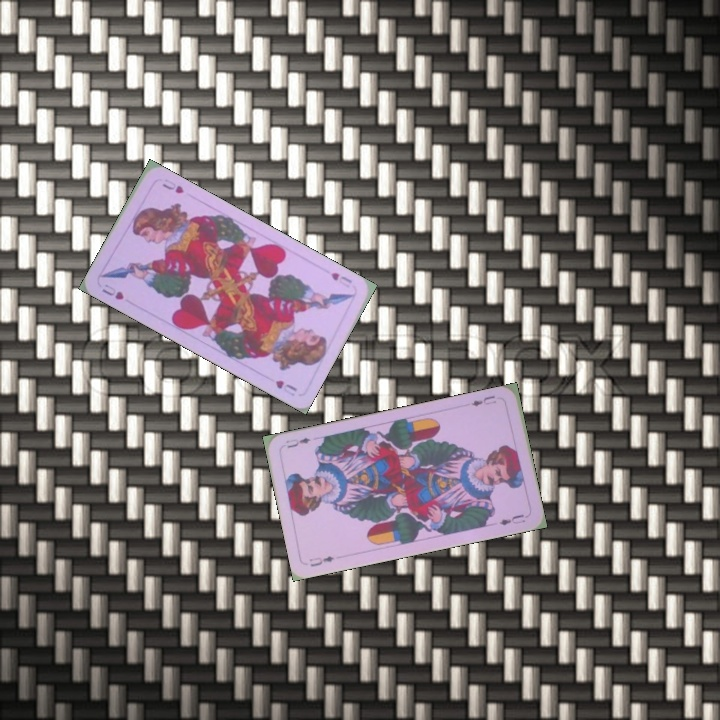EU: (467, 392, 499, 409), (305, 552, 337, 569)
HU: (98, 280, 126, 303), (327, 268, 355, 291)
